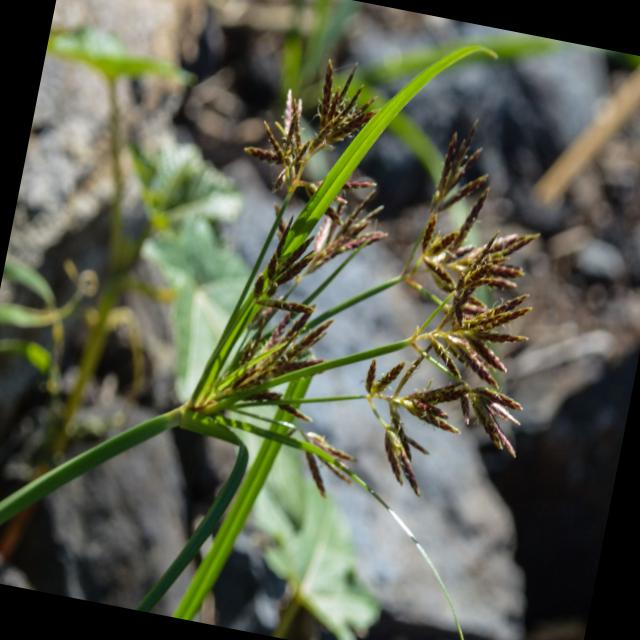cyperus: (391, 206, 566, 481), (232, 42, 391, 210), (230, 288, 345, 417)
